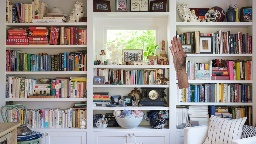Mano_aperta: (168, 35, 188, 71)
